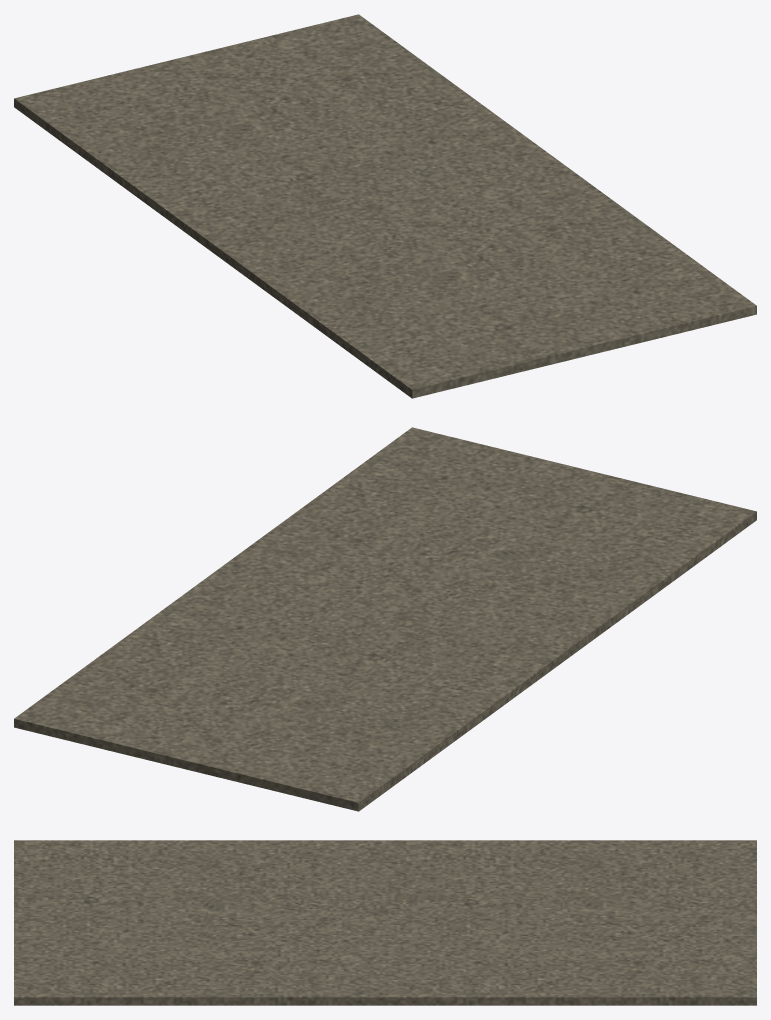
File: carpet_2.fbx
3 renders of one model, top to bottom at view 1: azimuth 30°, elevation 25°; view 2: azimuth 150°, elevation 25°; view 3: azimuth 270°, elevation 25°, orthographic. The views are drawn at different scales.
Parts seen in each view (by area): view 1: polySurface535; view 2: polySurface535; view 3: polySurface535.
Part boxes in pixels (x1,y1,x2,y2): polySurface535: (14, 14, 756, 398); polySurface535: (14, 427, 756, 811); polySurface535: (14, 840, 756, 1005).
Bounding box in the file's own units: 200 × 4.84 × 400.
